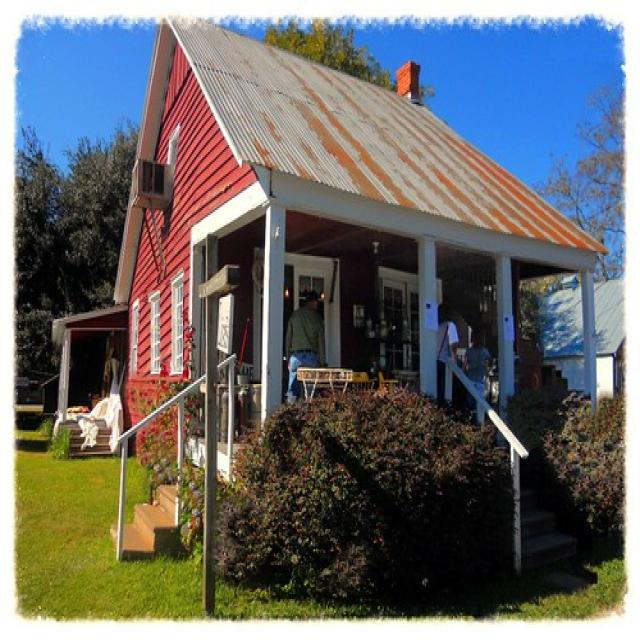building: (54, 16, 605, 614)
